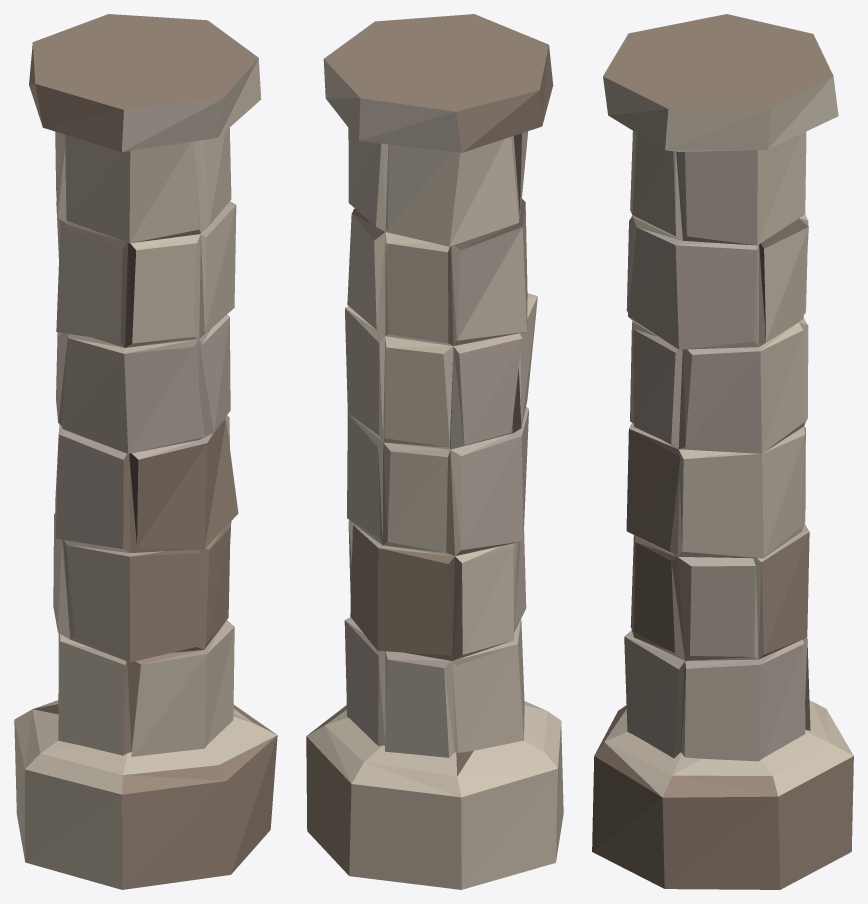
The model's file is RG-Dungeon_Column-04.fbx.
3 renders of one model, left to right at view 1: azimuth 30°, elevation 25°; view 2: azimuth 150°, elevation 25°; view 3: azimuth 270°, elevation 25°, orthographic.
Parts seen in each view (by area): view 1: RG-Dungeon_Column-04; view 2: RG-Dungeon_Column-04; view 3: RG-Dungeon_Column-04.
Boxes of the visible parts, x1,y1,x2,y2 form: RG-Dungeon_Column-04: (14,14,277,889); RG-Dungeon_Column-04: (306,14,563,889); RG-Dungeon_Column-04: (592,14,853,889).
Size of the model in its own units: 4.87 by 16 by 4.9.
